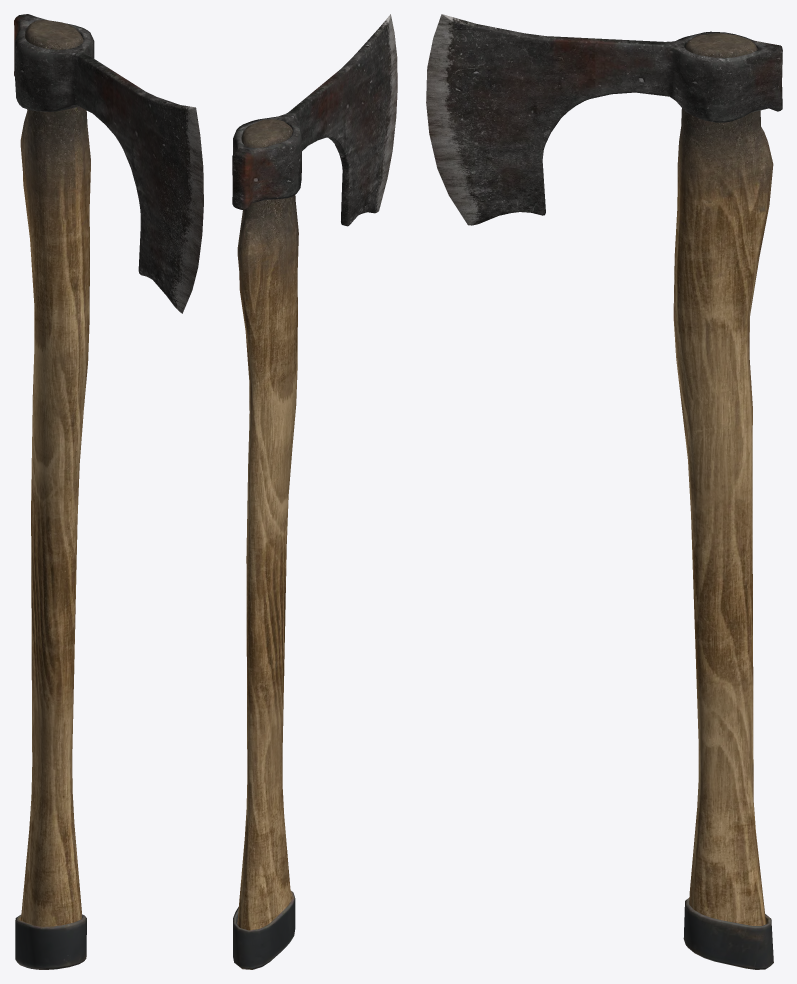
The model's file is wooden_axe.glb.
The picture shows the model from 3 angles, left to right: view 1: azimuth 30°, elevation 25°; view 2: azimuth 150°, elevation 25°; view 3: azimuth 270°, elevation 25°; orthographic projection. The views are drawn at different scales.
Visible parts, largest first — view 1: wooden_axe; view 2: wooden_axe; view 3: wooden_axe.
Part boxes in pixels (box(x1,y1,x2,y2)): wooden_axe: box(14, 14, 203, 969); wooden_axe: box(232, 14, 397, 969); wooden_axe: box(426, 14, 782, 969).
Size of the model in its own units: 0.0472 by 0.6303 by 0.2142.
Materials: 1 (1 with a texture image).
